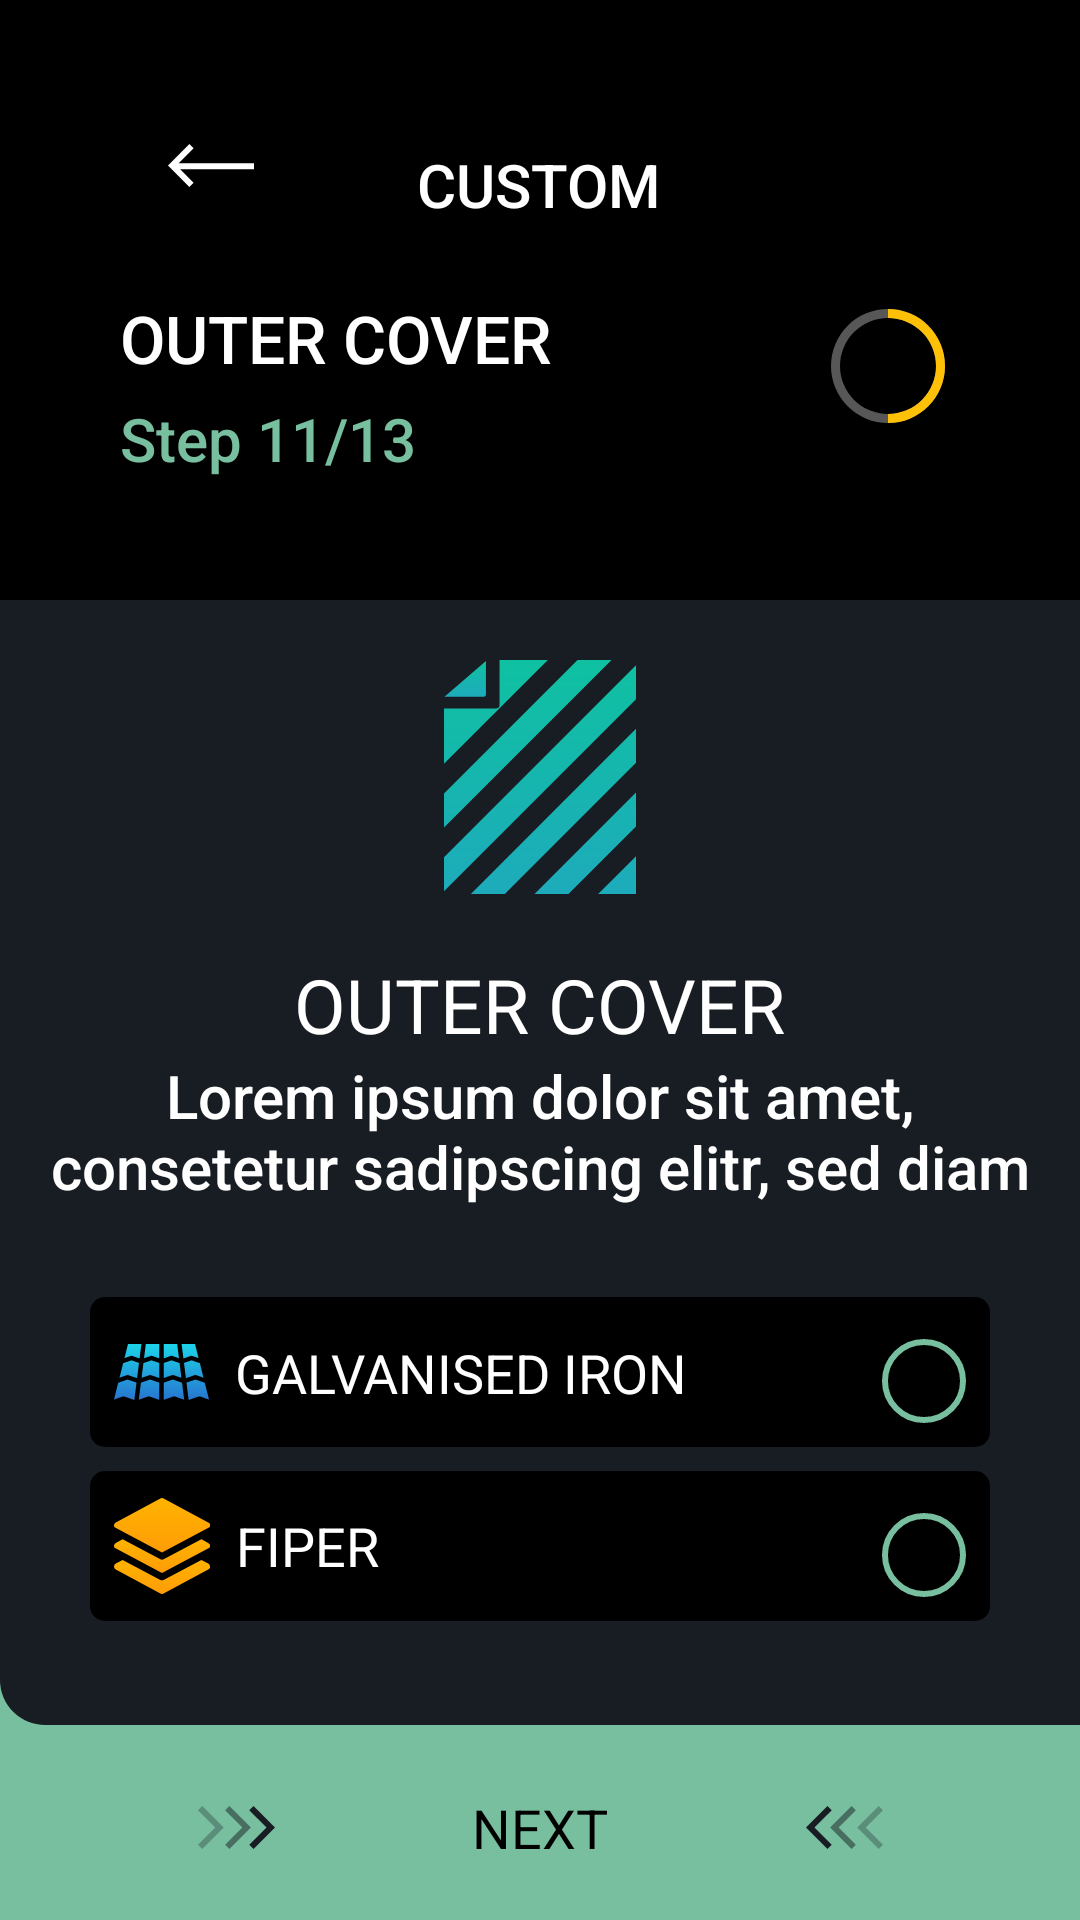

Icons on this 1080×1920 Android screen, each with the point to tap as (x=x, y=y):
arrow: (x=211, y=165)
checkboxstyle: (x=924, y=1381), (x=924, y=1555)
